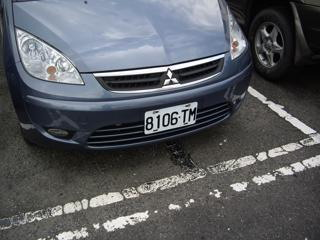plate: (142, 101, 198, 134)
